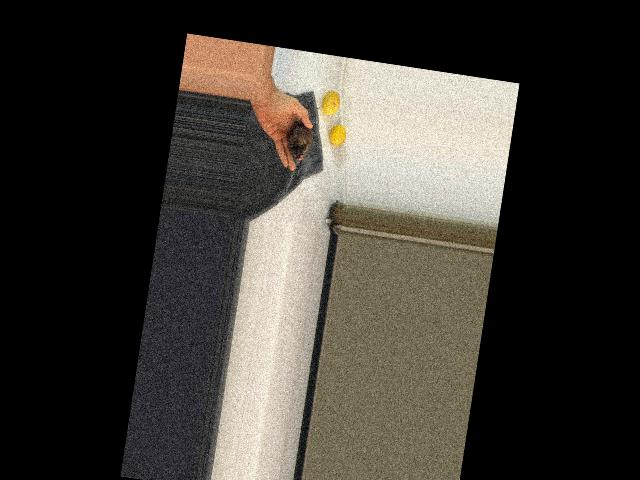beet: (284, 103, 319, 160)
